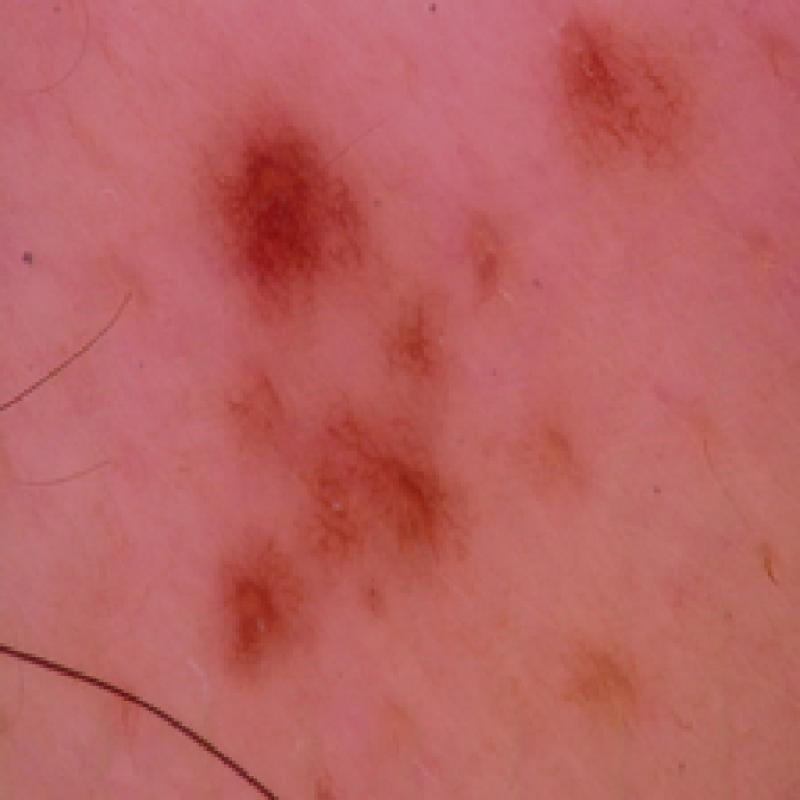benign: (153, 332, 493, 701), (522, 0, 800, 189), (187, 108, 363, 330)
